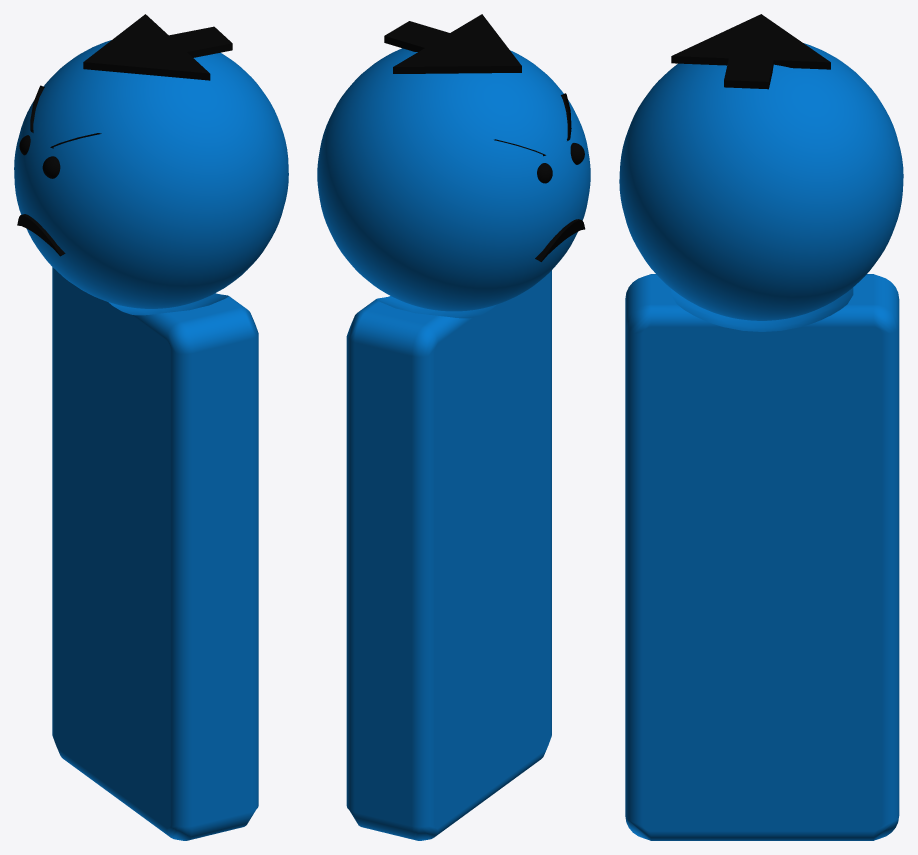
The model's file is blue_angry.obj.
3 views of the same model, side by side, from view 1: azimuth 30°, elevation 25°; view 2: azimuth 150°, elevation 25°; view 3: azimuth 270°, elevation 25° (orthographic). The views are drawn at different scales.
Parts seen in each view (by area): view 1: 1_Curve.002_Curve.003, 5.002_Curve.002_Curve.003_5.002_Curve.002_Curve.003; view 2: 1_Curve.002_Curve.003, 5.002_Curve.002_Curve.003_5.002_Curve.002_Curve.003; view 3: 1_Curve.002_Curve.003, 5.002_Curve.002_Curve.003_5.002_Curve.002_Curve.003.
Boxes of the visible parts, x1,y1,x2,y2 form: 1_Curve.002_Curve.003: [14, 40, 288, 840]; 5.002_Curve.002_Curve.003_5.002_Curve.002_Curve.003: [17, 14, 232, 256]; 1_Curve.002_Curve.003: [317, 48, 590, 840]; 5.002_Curve.002_Curve.003_5.002_Curve.002_Curve.003: [384, 14, 585, 261]; 1_Curve.002_Curve.003: [619, 43, 903, 840]; 5.002_Curve.002_Curve.003_5.002_Curve.002_Curve.003: [671, 14, 830, 89].
Size of the model in its own units: 0.1677 by 0.4993 by 0.1661.
